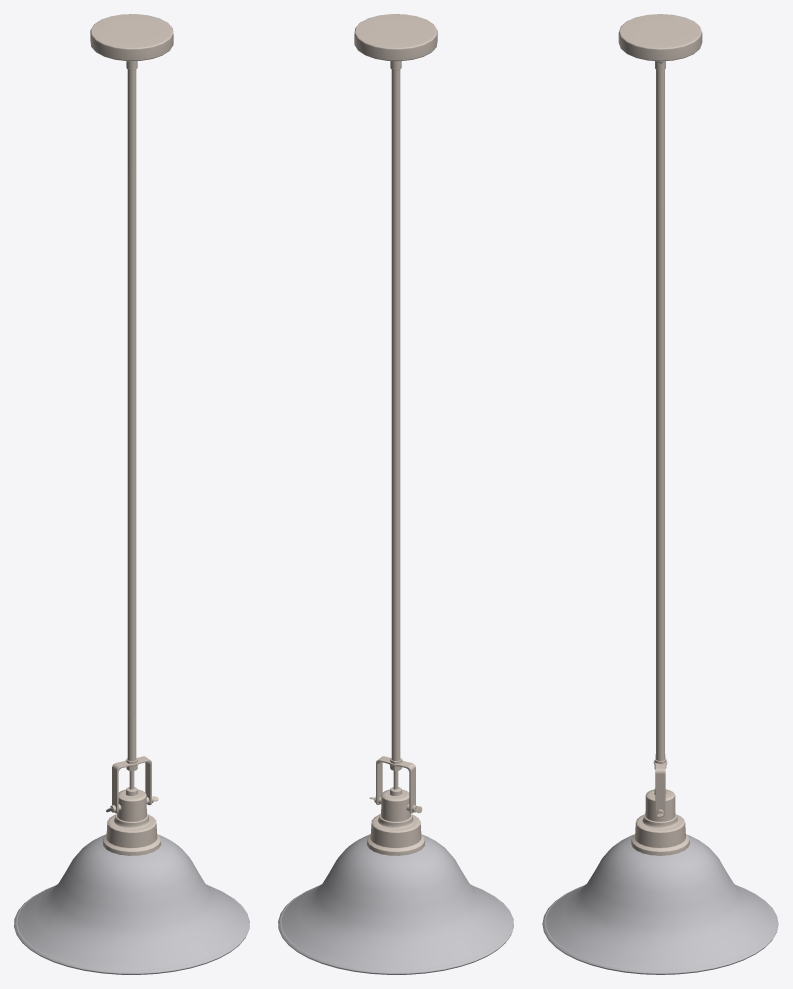
Rendered from abo-B07DBHPK81.glb.
3 renders of one model, left to right at view 1: azimuth 30°, elevation 25°; view 2: azimuth 150°, elevation 25°; view 3: azimuth 270°, elevation 25°, orthographic.
Bounding box in the file's own units: 0.324 × 1.35 × 0.324.
Materials: 1 (1 with a texture image).
